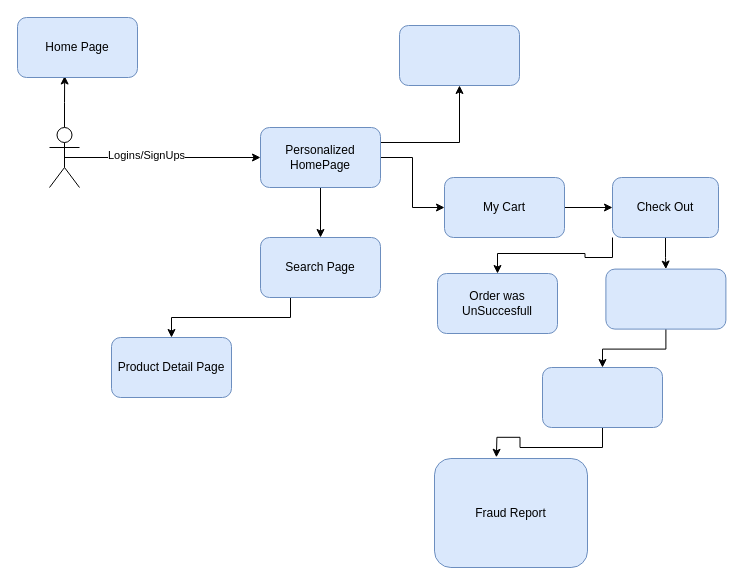
Image size: 744x585. Some labels were removed from this diagram. Here are the shapes that lost their labels. From the top down, the centre of each, then its label:
At [459,55]: "My Settings".
At [64,157]: "User".
At [665,298]: "Succefully Ordered".
At [602,397]: "Delivery Status".
